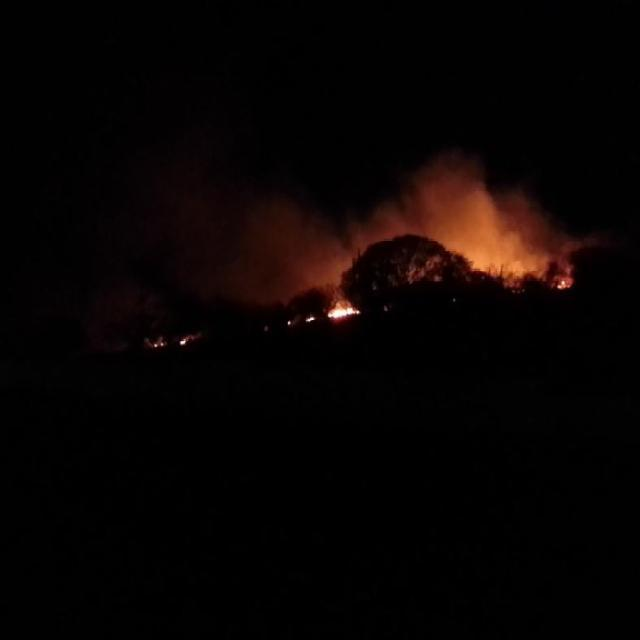Fire: (471, 218, 534, 286), (294, 300, 364, 324), (554, 269, 574, 290), (176, 327, 193, 348), (148, 335, 169, 352)
Smoke: (231, 172, 314, 291), (410, 135, 494, 198), (554, 222, 607, 258), (371, 198, 409, 240)
